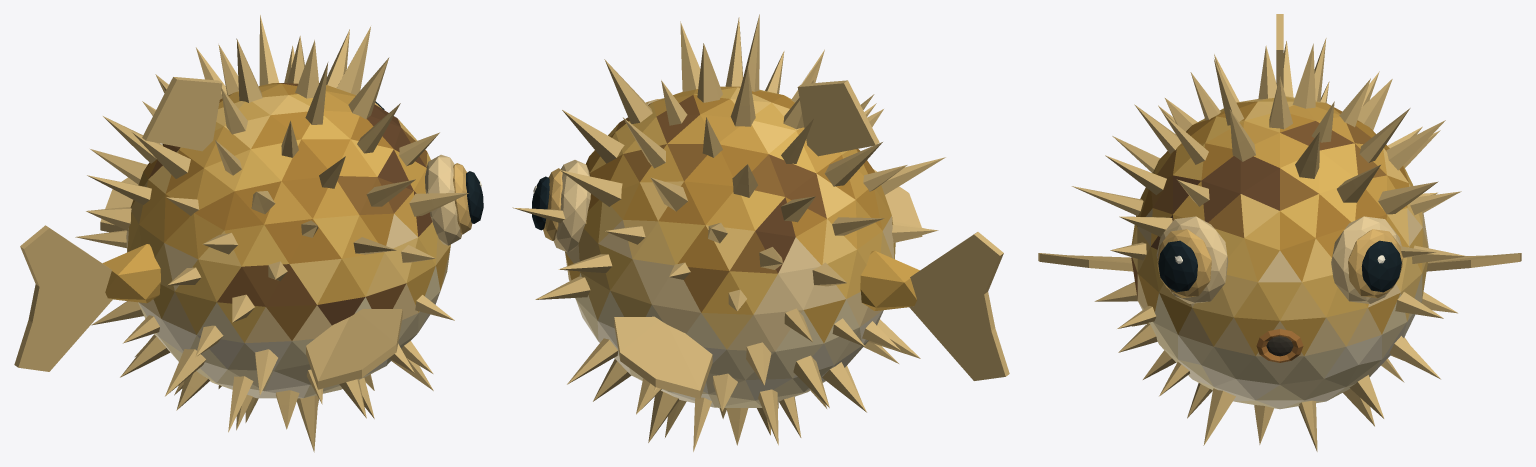
The model's file is SM_Pufferfish_Spiny.fbx.
The picture shows the model from 3 angles, left to right: view 1: azimuth 30°, elevation 25°; view 2: azimuth 150°, elevation 25°; view 3: azimuth 270°, elevation 25°; orthographic projection. The views are drawn at different scales.
Visible parts, largest first — view 1: SM_Pufferfish_Spiny; view 2: SM_Pufferfish_Spiny; view 3: SM_Pufferfish_Spiny.
Part boxes in pixels (x1,y1,x2,y2): SM_Pufferfish_Spiny: (14, 15, 483, 452); SM_Pufferfish_Spiny: (512, 14, 1009, 451); SM_Pufferfish_Spiny: (1038, 14, 1521, 451).
Size of the model in its own units: 148 by 152 by 130.
Materials: 1 (1 with a texture image).
